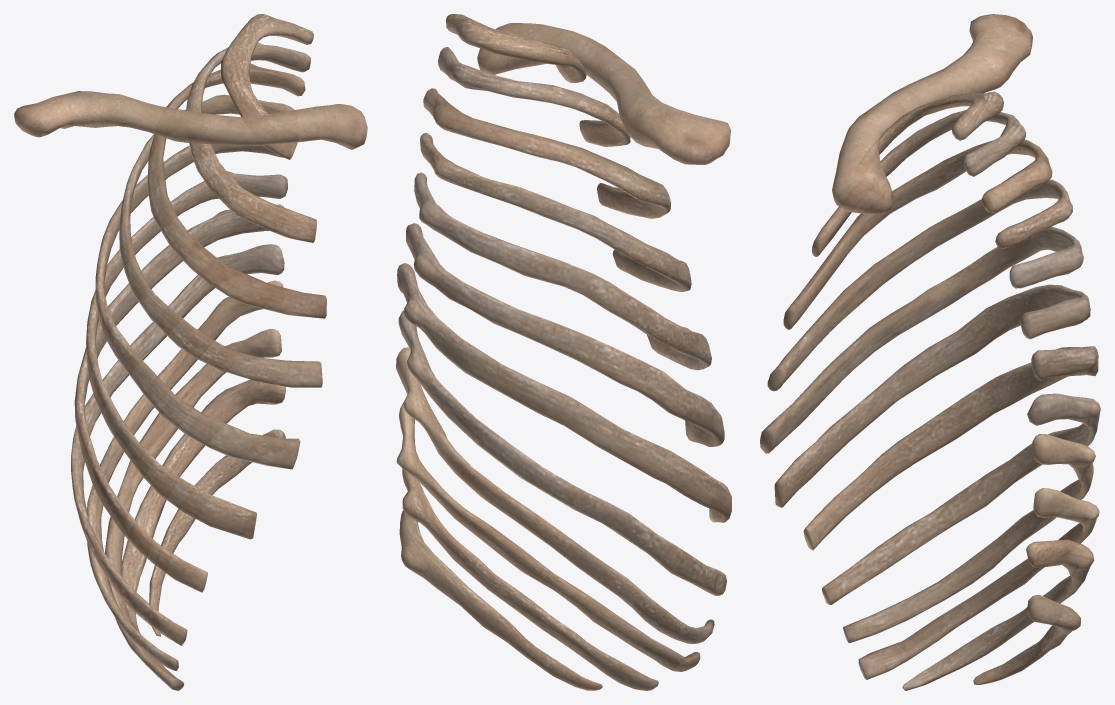
The model's file is Legs.004.obj.
The picture shows the model from 3 angles, left to right: view 1: azimuth 30°, elevation 25°; view 2: azimuth 150°, elevation 25°; view 3: azimuth 270°, elevation 25°; orthographic projection. The views are drawn at different scales.
Parts seen in each view (by area): view 1: Legs.004_Arms.111; view 2: Legs.004_Arms.111; view 3: Legs.004_Arms.111.
Boxes of the visible parts, box(x1,y1,x2,y2) form: Legs.004_Arms.111: box(14, 14, 367, 690); Legs.004_Arms.111: box(396, 14, 731, 690); Legs.004_Arms.111: box(760, 14, 1100, 690).
Bounding box in the file's own units: 0.8093 × 1.65 × 0.7672.
